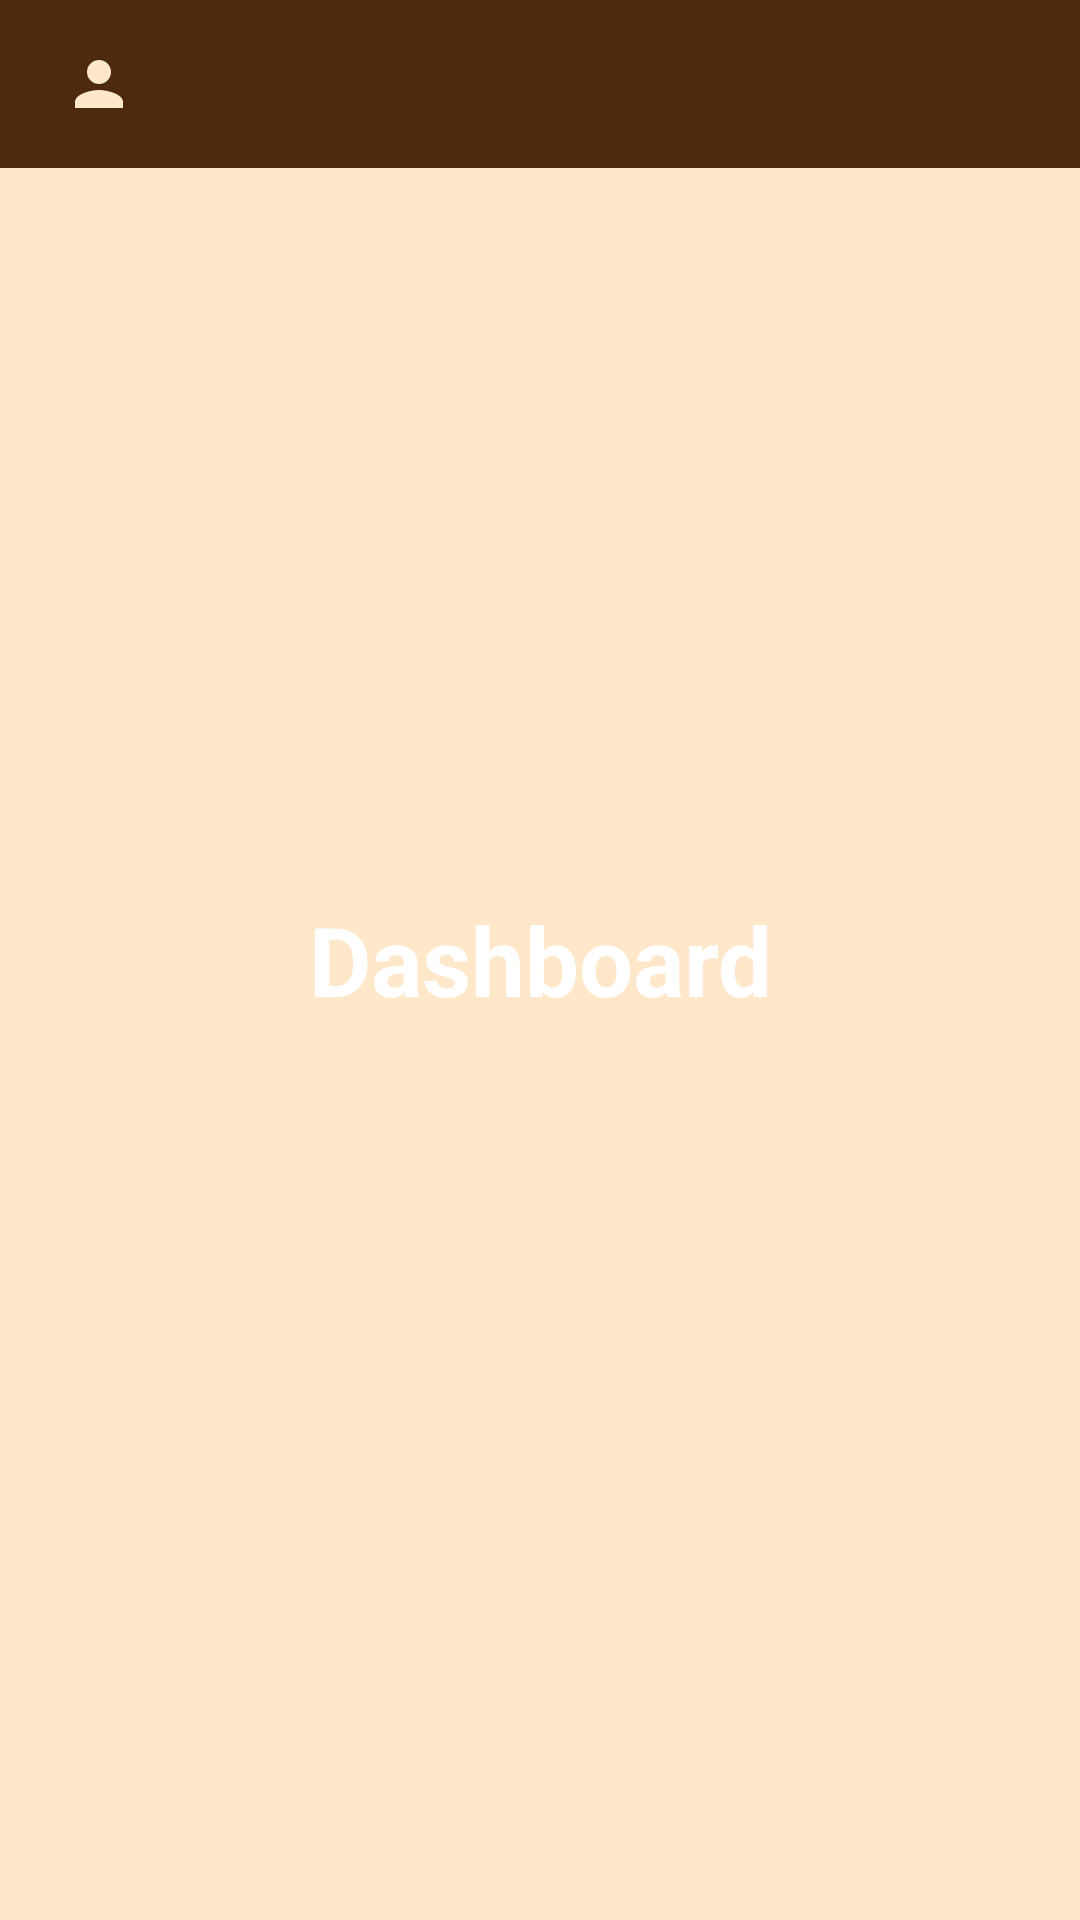

Screen size 1080 × 1920. Icon name, then its center in pixels as (x,y):
person: (99,84)
